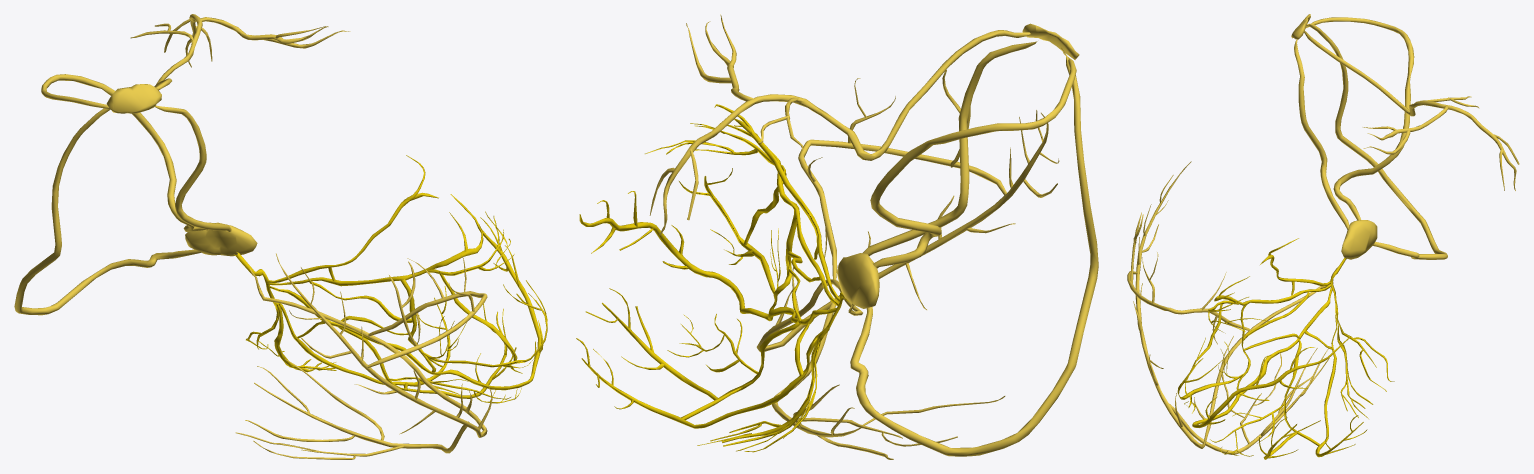
File: sanvan.gltf
3 views of the same model, side by side, from view 1: azimuth 30°, elevation 25°; view 2: azimuth 150°, elevation 25°; view 3: azimuth 270°, elevation 25° (orthographic). The views are drawn at different scales.
Parts seen in each view (by area): view 1: c1.075; view 2: c1.075; view 3: c1.075.
Boxes of the visible parts, x1,y1,x2,y2 form: c1.075: [14, 14, 547, 459]; c1.075: [576, 14, 1098, 459]; c1.075: [1127, 14, 1519, 459].
Size of the model in its own units: 3.36 by 2.96 by 3.17.
